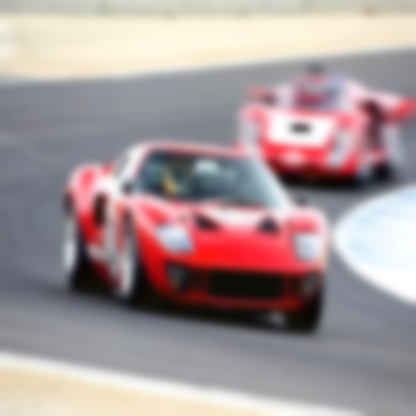Vehicle: (66, 143, 330, 332)
